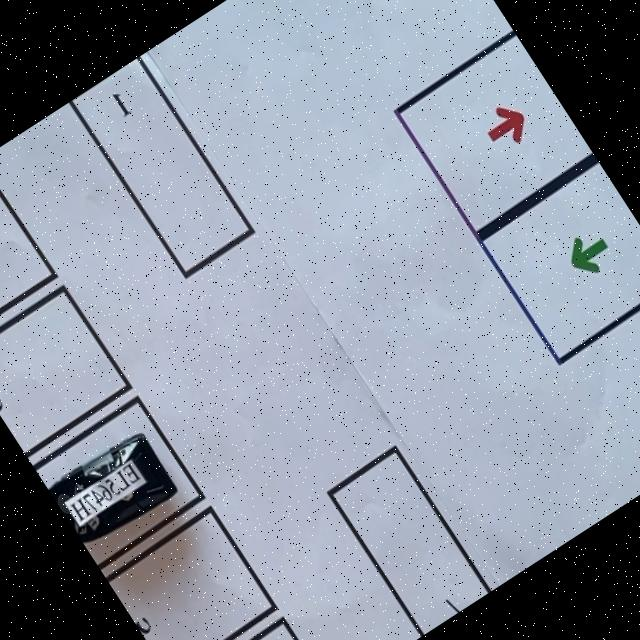car: (44, 423, 182, 552)
